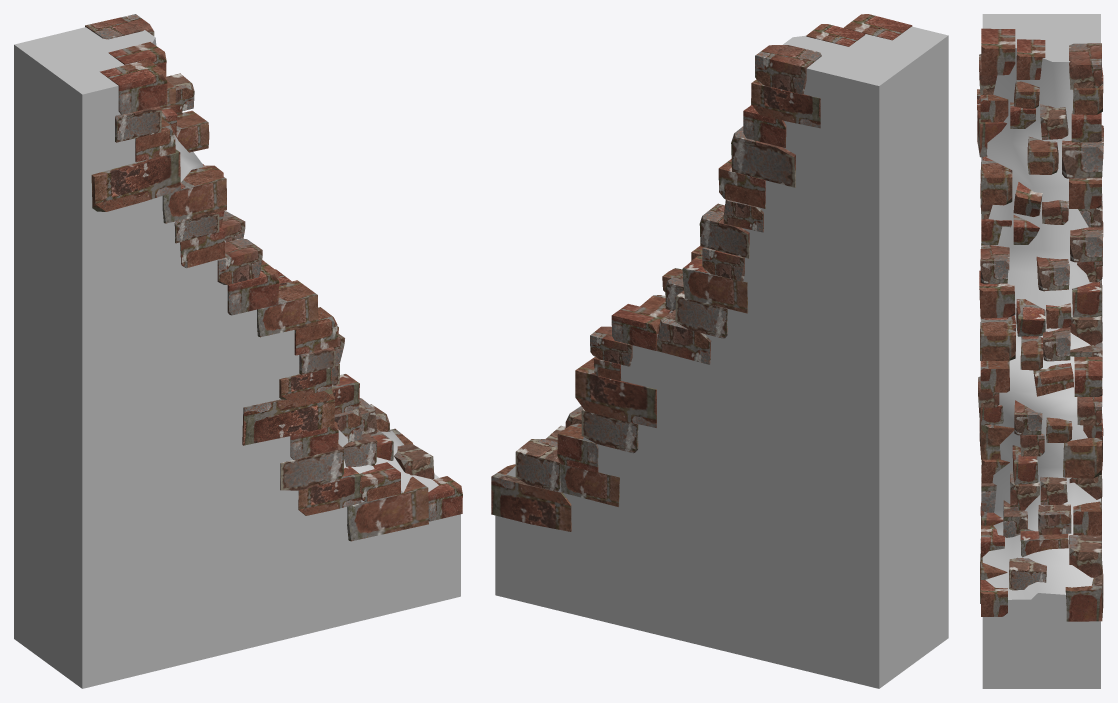
The model's file is SM_Wall_Thick_Ruined_05.fbx.
The picture shows the model from 3 angles, left to right: view 1: azimuth 30°, elevation 25°; view 2: azimuth 150°, elevation 25°; view 3: azimuth 270°, elevation 25°; orthographic projection. The views are drawn at different scales.
Visible parts, largest first — view 1: SM_Wall_Thick_Ruined_05_LOD0; view 2: SM_Wall_Thick_Ruined_05_LOD0; view 3: SM_Wall_Thick_Ruined_05_LOD0.
Part boxes in pixels (x1,y1,x2,y2): SM_Wall_Thick_Ruined_05_LOD0: [14, 14, 462, 688]; SM_Wall_Thick_Ruined_05_LOD0: [491, 14, 948, 688]; SM_Wall_Thick_Ruined_05_LOD0: [977, 14, 1103, 688].
Size of what is drawn, in the model's own units: 404 by 602 by 134.
